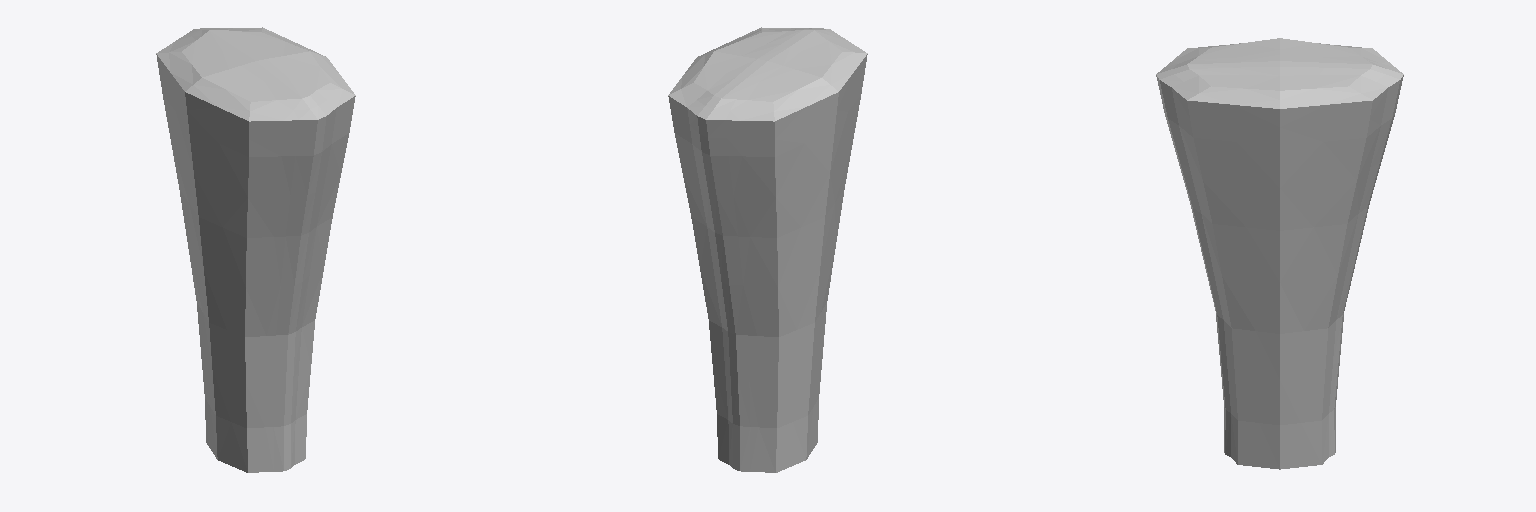
The model's file is rufoot.obj.
3 views of the same model, side by side, from view 1: azimuth 30°, elevation 25°; view 2: azimuth 150°, elevation 25°; view 3: azimuth 270°, elevation 25° (orthographic).
Parts seen in each view (by area): view 1: pasted__pCube29 group; view 2: pasted__pCube29 group; view 3: pasted__pCube29 group.
Boxes of the visible parts, x1,y1,x2,y2 form: pasted__pCube29 group: [156, 27, 355, 472]; pasted__pCube29 group: [668, 27, 867, 472]; pasted__pCube29 group: [1156, 38, 1403, 469].
Size of the model in its own units: 1.26 by 3.31 by 1.91.